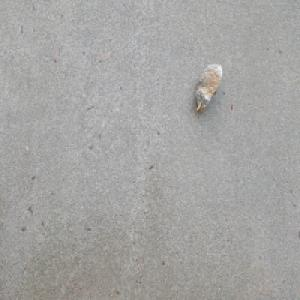Rock: (194, 61, 222, 115)
